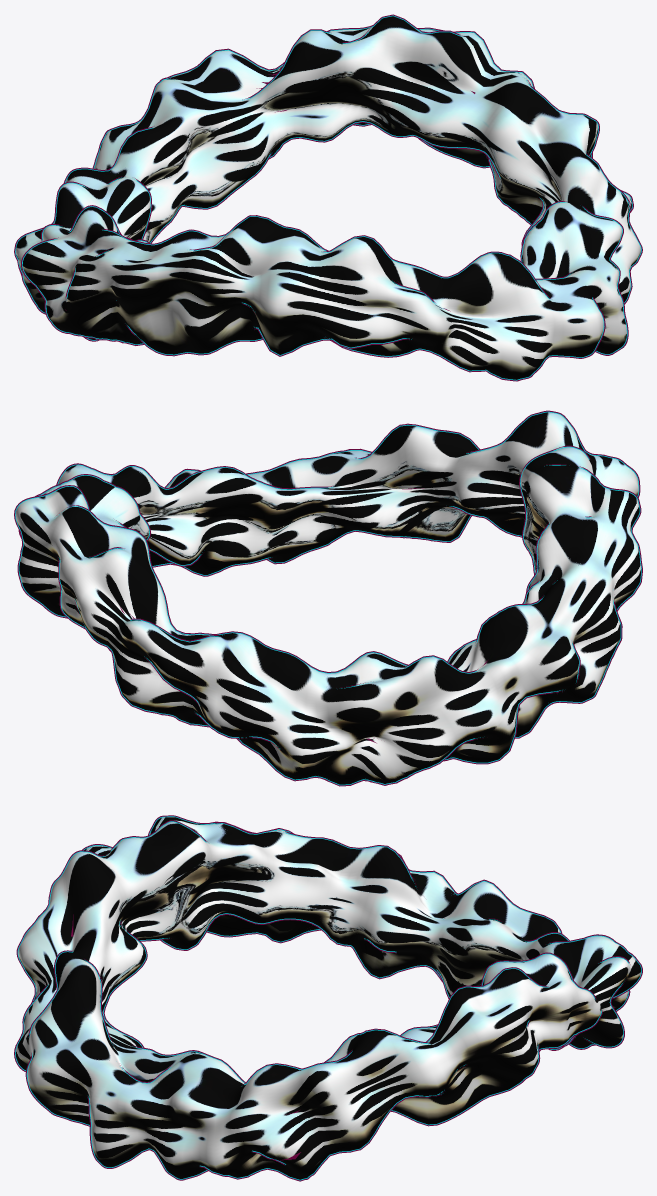
File: donut-bla-3.glb
3 views of the same model, one above another, from view 1: azimuth 30°, elevation 25°; view 2: azimuth 150°, elevation 25°; view 3: azimuth 270°, elevation 25° (orthographic). The views are drawn at different scales.
Parts seen in each view (by area): view 1: Torus; view 2: Torus; view 3: Torus.
Boxes of the visible parts, x1,y1,x2,y2 form: Torus: (14, 14, 642, 381); Torus: (14, 410, 642, 786); Torus: (14, 815, 642, 1181).
Size of what is drawn, in the model's own units: 19.27 by 6.56 by 19.19.
3 materials, 1 textured.
